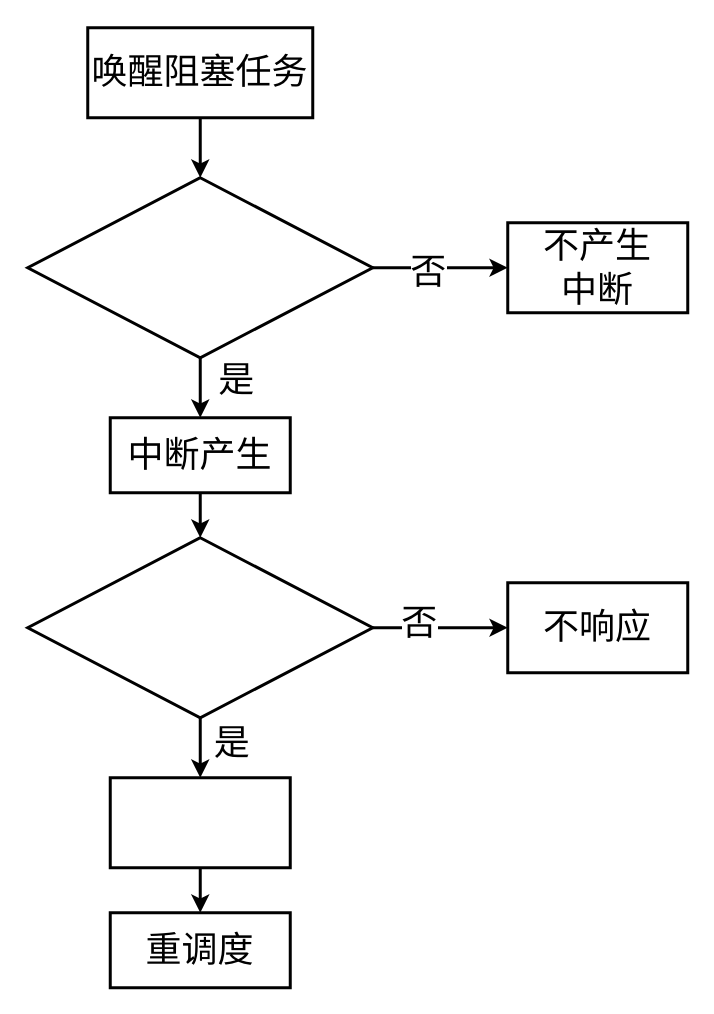
This 714x1014 diagram has some shape labels left out. Each missing label, with the box of its shape:
任务 是否 为高优先级: (26, 176, 374, 358)
保存任务现场: (108, 776, 291, 868)
是否使能 中断: (26, 536, 374, 718)
